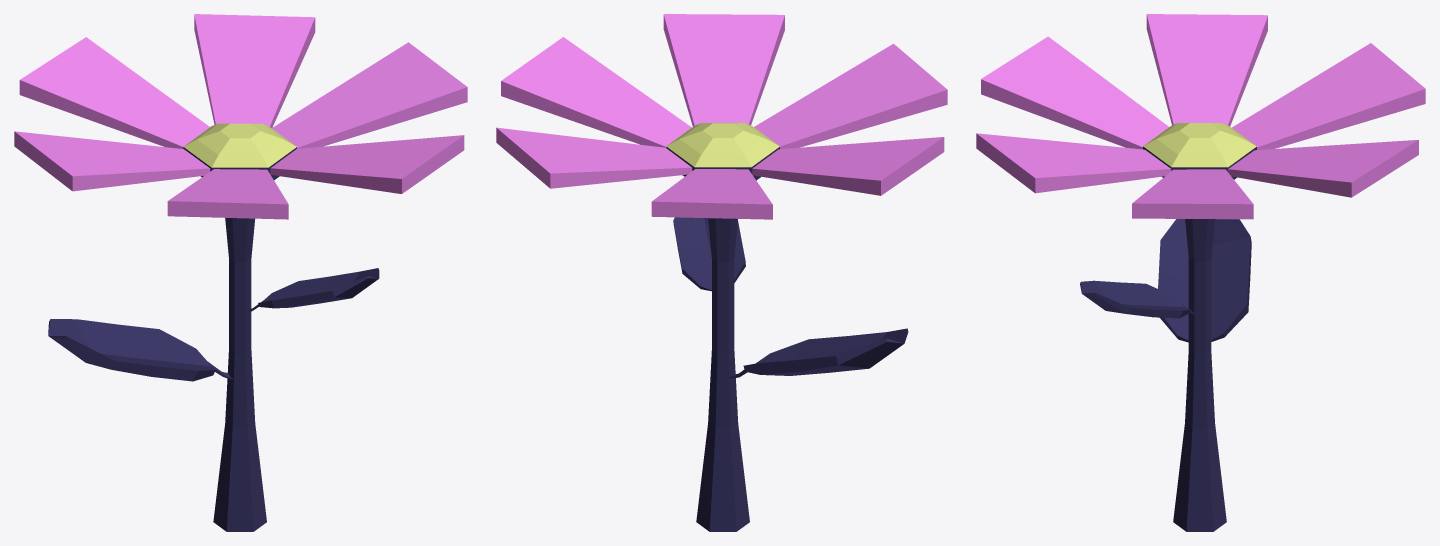
The model's file is flower5.fbx.
3 views of the same model, side by side, from view 1: azimuth 30°, elevation 25°; view 2: azimuth 150°, elevation 25°; view 3: azimuth 270°, elevation 25° (orthographic).
Parts seen in each view (by area): view 1: Cube, Circle; view 2: Cube, Circle; view 3: Cube, Circle.
Boxes of the visible parts, x1,y1,x2,y2 form: Cube: (14,14,467,219); Circle: (48,123,379,531); Cube: (496,14,947,219); Circle: (666,123,908,531); Cube: (976,14,1425,219); Circle: (1080,123,1256,531).
Bounding box in the file's own units: 991 × 1004 × 990.
